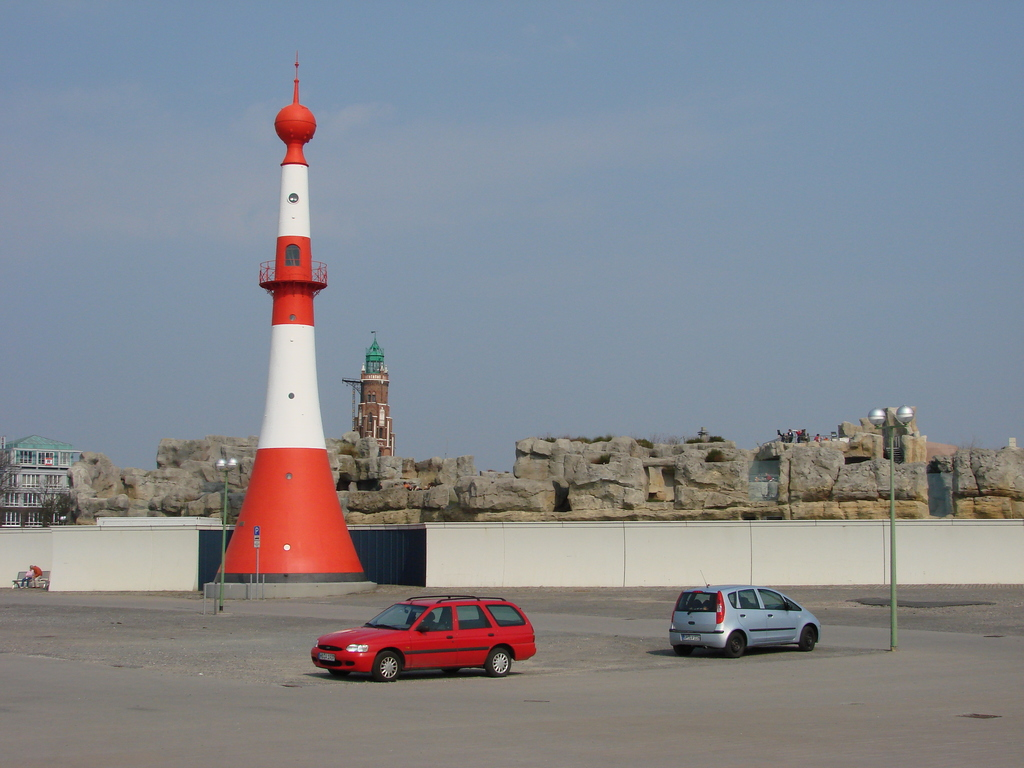Car: (306, 588, 552, 689), (667, 568, 821, 658)
